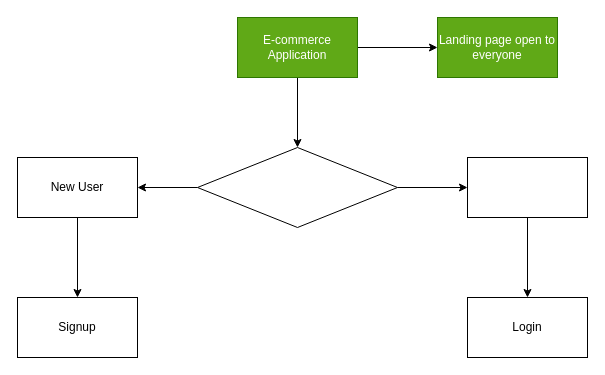
This 605x375 diagram has some shape labels left out. The shapes that lost their labels are listed below. From the top down, each one's centre as x and y in pixels, then its label:
(297,187): New/Registererd User
(527,187): Registered User
